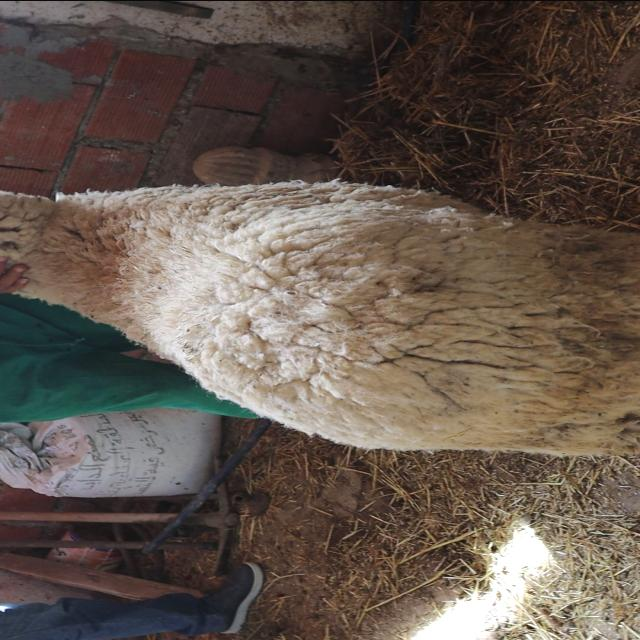Score_4: (0, 179, 639, 455)
